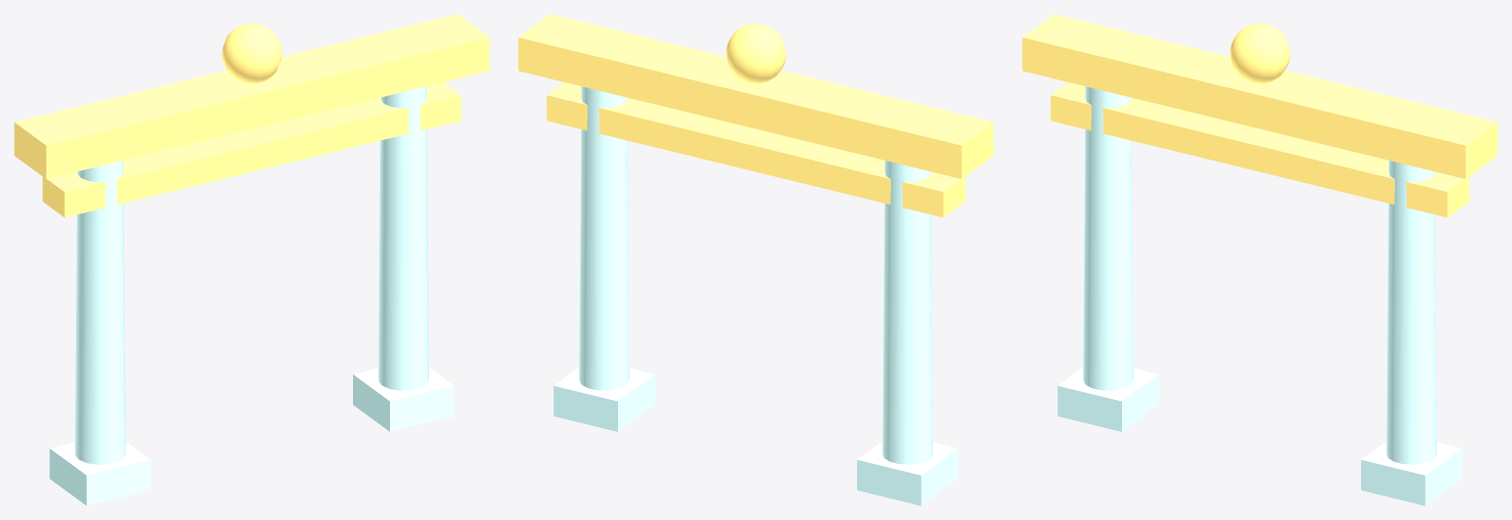
Rendered from celestial_gate.glb.
3 views of the same model, side by side, from view 1: azimuth 30°, elevation 25°; view 2: azimuth 150°, elevation 25°; view 3: azimuth 330°, elevation 25° (orthographic).
Parts seen in each view (by area): view 1: HeavenlyGoldArch, ImmortalWhiteJadePillars; view 2: HeavenlyGoldArch, ImmortalWhiteJadePillars; view 3: HeavenlyGoldArch, ImmortalWhiteJadePillars.
Boxes of the visible parts, x1,y1,x2,y2 form: HeavenlyGoldArch: [14, 14, 489, 217]; ImmortalWhiteJadePillars: [49, 86, 454, 505]; HeavenlyGoldArch: [518, 14, 993, 217]; ImmortalWhiteJadePillars: [553, 86, 958, 505]; HeavenlyGoldArch: [1022, 14, 1497, 217]; ImmortalWhiteJadePillars: [1057, 86, 1462, 505].
Bounding box in the file's own units: 7.6 × 6.9 × 1.1.
